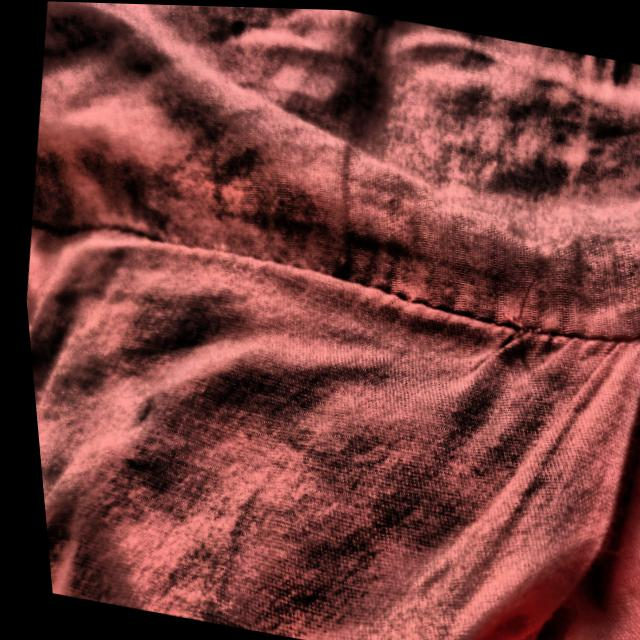Stitch: (395, 231, 583, 408)
